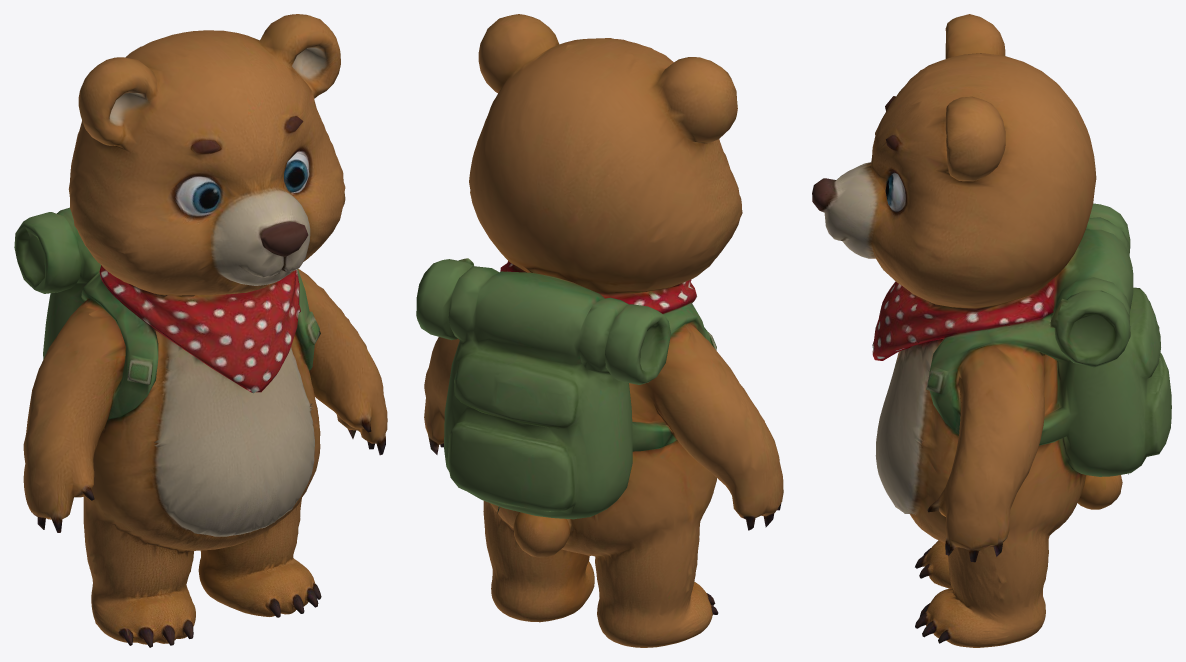
Rendered from bear.glb.
3 renders of one model, left to right at view 1: azimuth 30°, elevation 25°; view 2: azimuth 150°, elevation 25°; view 3: azimuth 270°, elevation 25°, orthographic. The views are drawn at different scales.
Visible parts, largest first — view 1: tripo_node_dccb50bf-34ec-4f89-ac43-98e3929f5939; view 2: tripo_node_dccb50bf-34ec-4f89-ac43-98e3929f5939; view 3: tripo_node_dccb50bf-34ec-4f89-ac43-98e3929f5939.
Boxes of the visible parts, x1,y1,x2,y2 form: tripo_node_dccb50bf-34ec-4f89-ac43-98e3929f5939: (14,14,387,647); tripo_node_dccb50bf-34ec-4f89-ac43-98e3929f5939: (416,14,783,647); tripo_node_dccb50bf-34ec-4f89-ac43-98e3929f5939: (812,14,1171,647).
Size of the model in its own units: 0.6204 by 0.9785 by 0.5805.
1 material, 1 textured.
